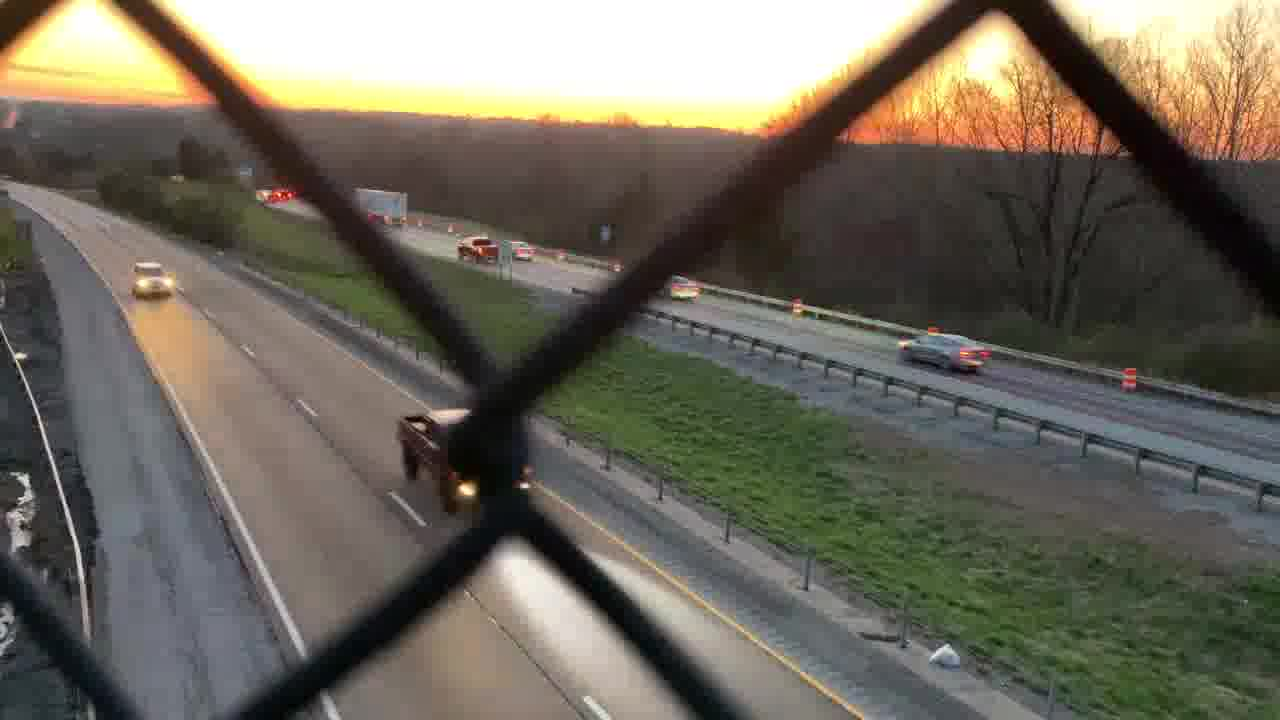heavyTruck: (350, 184, 415, 230)
largeCar: (132, 259, 179, 304)
lightTruck: (398, 411, 537, 517), (454, 237, 498, 263)
smallCar: (897, 322, 993, 374), (648, 268, 702, 309), (502, 234, 543, 263)
vehicle: (267, 190, 292, 200)
